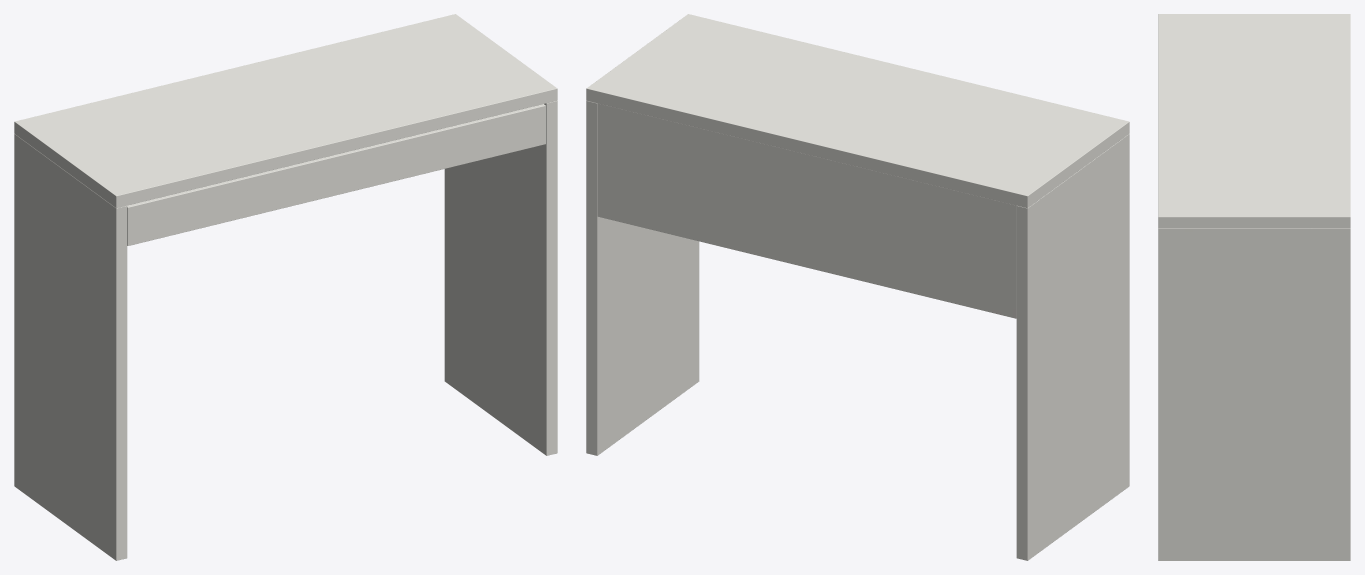
Rendered from abo-B084S6TSK7.glb.
3 renders of one model, left to right at view 1: azimuth 30°, elevation 25°; view 2: azimuth 150°, elevation 25°; view 3: azimuth 270°, elevation 25°, orthographic. The views are drawn at different scales.
Size of the model in its own units: 1 by 0.79 by 0.4.
Materials: 1 (1 with a texture image).
